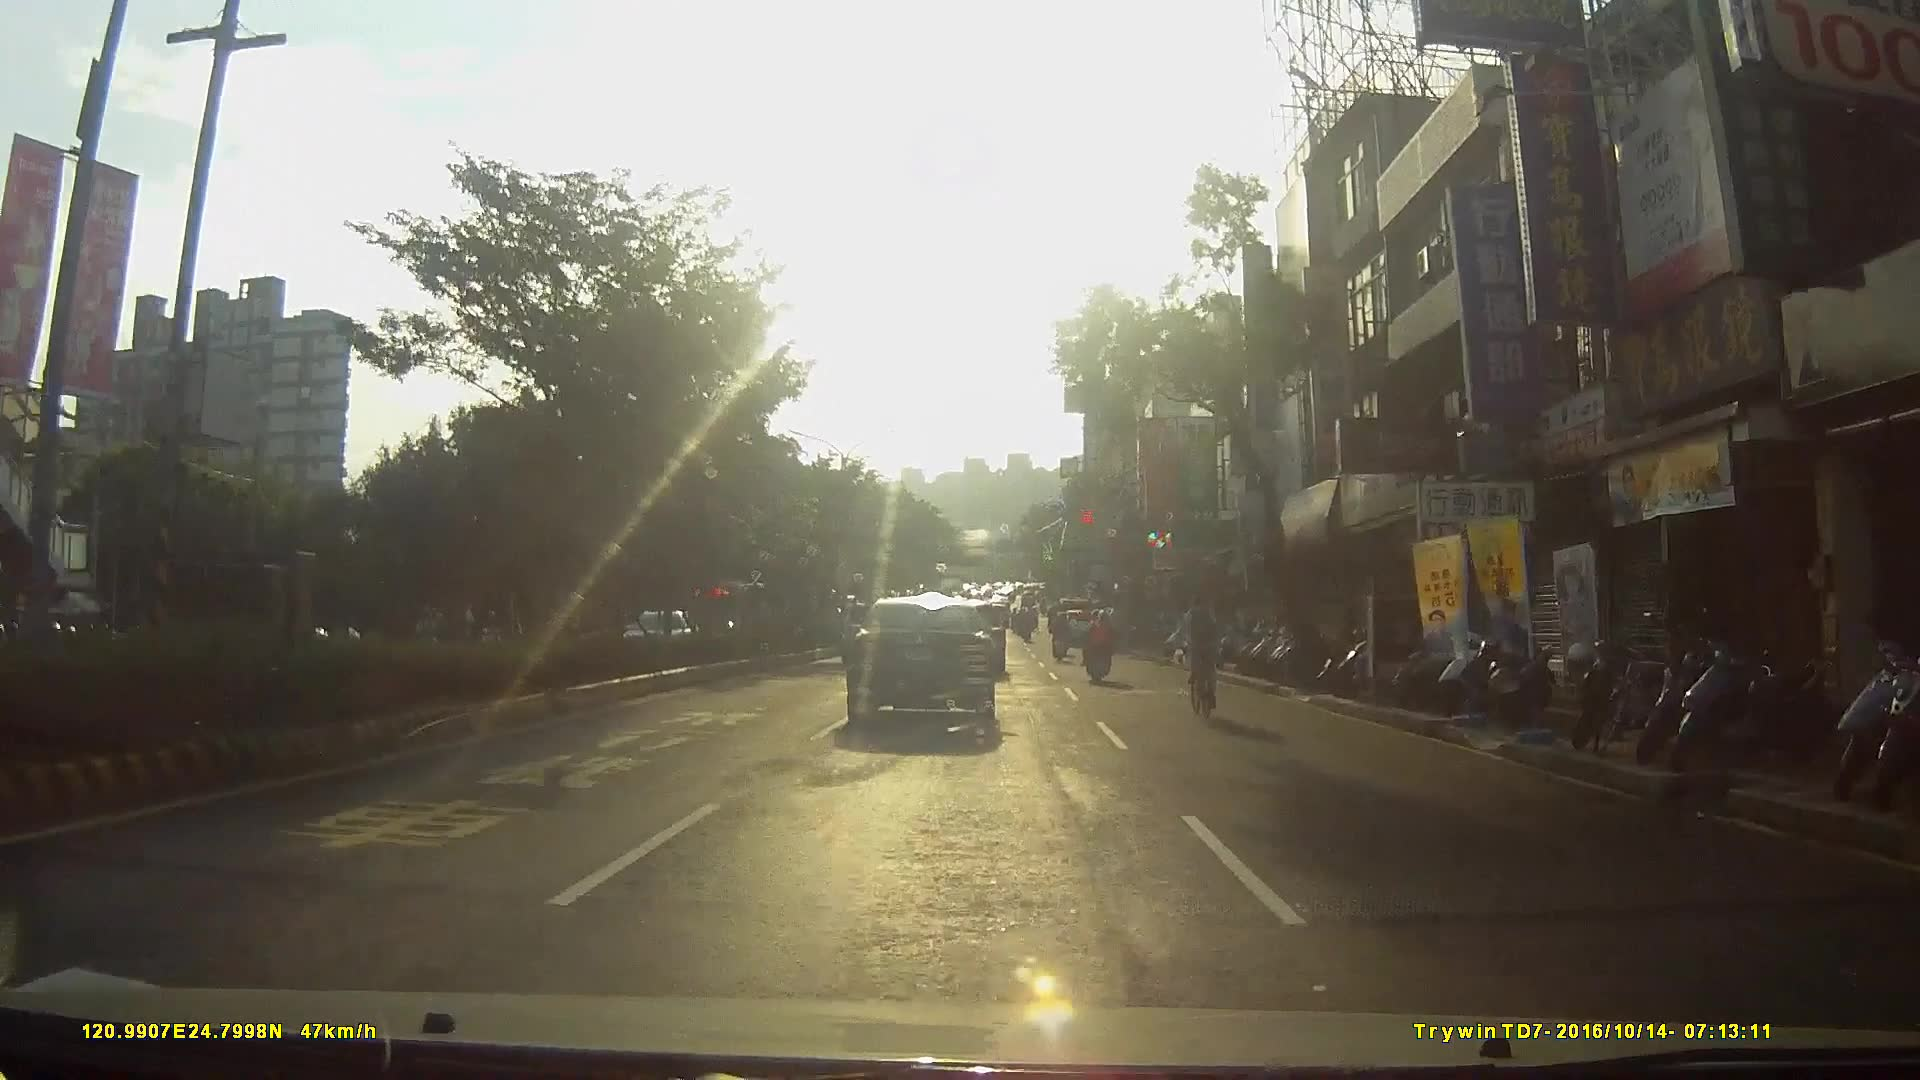rider: (1176, 588, 1236, 724), (1083, 612, 1117, 688), (1049, 610, 1073, 664)
vehicle: (845, 606, 1010, 752)
